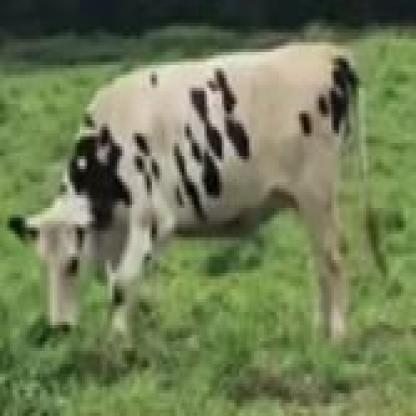cow: (11, 46, 355, 364)
